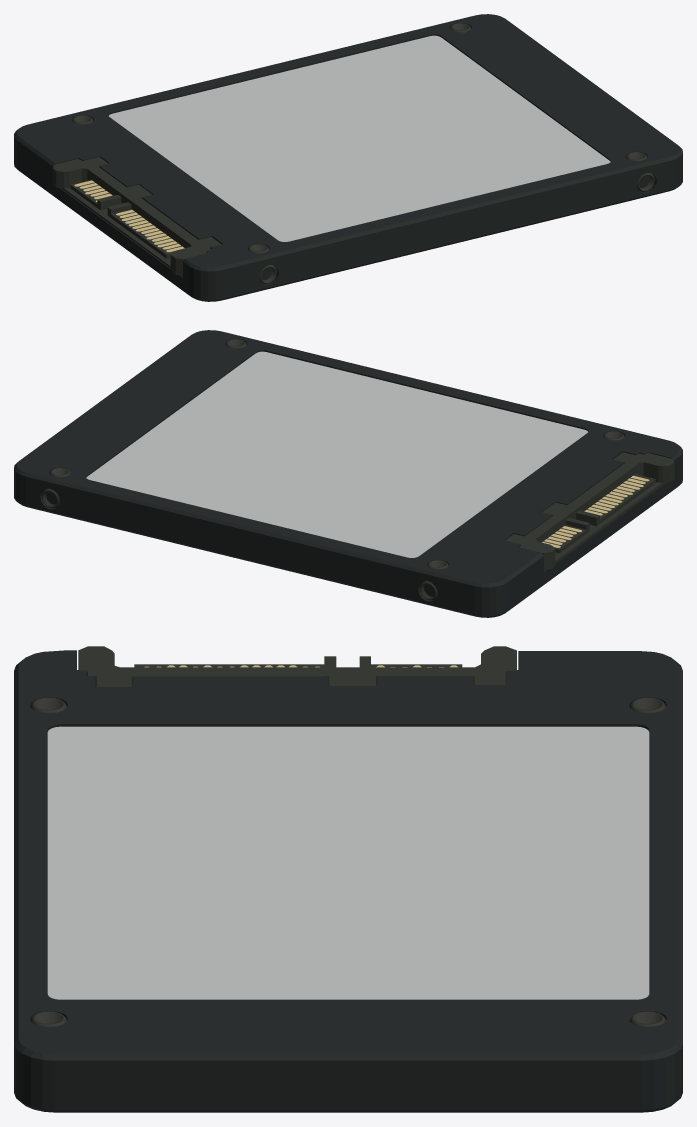
Rendered from sata.glb.
3 views of the same model, one above another, from view 1: azimuth 30°, elevation 25°; view 2: azimuth 150°, elevation 25°; view 3: azimuth 270°, elevation 25° (orthographic). The views are drawn at different scales.
Parts seen in each view (by area): view 1: Object_4, Object_3; view 2: Object_4, Object_3; view 3: Object_4, Object_3.
Part boxes in pixels (left/top/right/bottom): Object_4: left=14, top=14, right=682, bottom=301; Object_3: left=52, top=157, right=221, bottom=276; Object_4: left=14, top=330, right=682, bottom=617; Object_3: left=505, top=452, right=674, bottom=570; Object_4: left=14, top=650, right=682, bottom=1112; Object_3: left=78, top=646, right=516, bottom=686.
Size of the model in its own units: 10.05 by 0.6765 by 6.92.
Materials: 1 (1 with a texture image).
